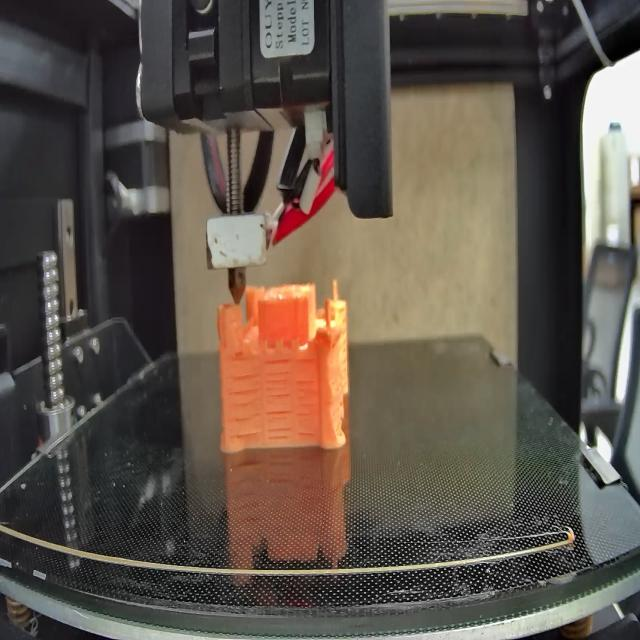cracks: (228, 374, 264, 441), (293, 375, 319, 440), (262, 404, 293, 439), (265, 358, 291, 399), (295, 358, 316, 368)
